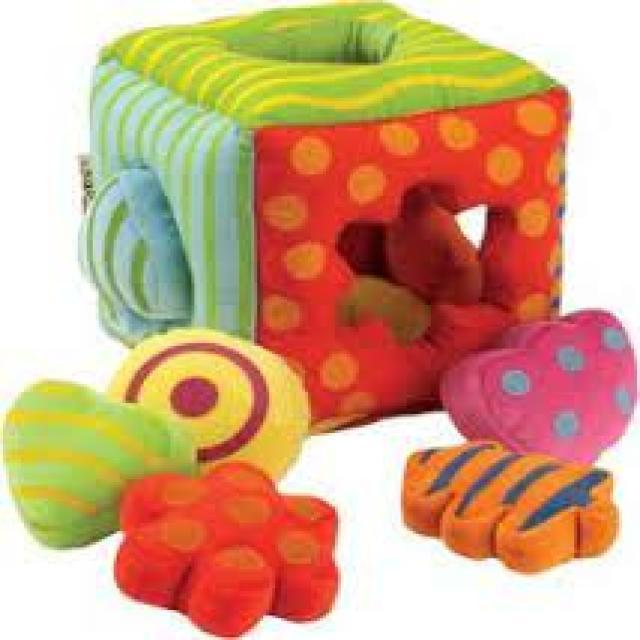soft-toy: (80, 2, 569, 430), (115, 462, 338, 636), (5, 381, 196, 547), (441, 310, 636, 462), (109, 329, 309, 477), (402, 441, 619, 572)
